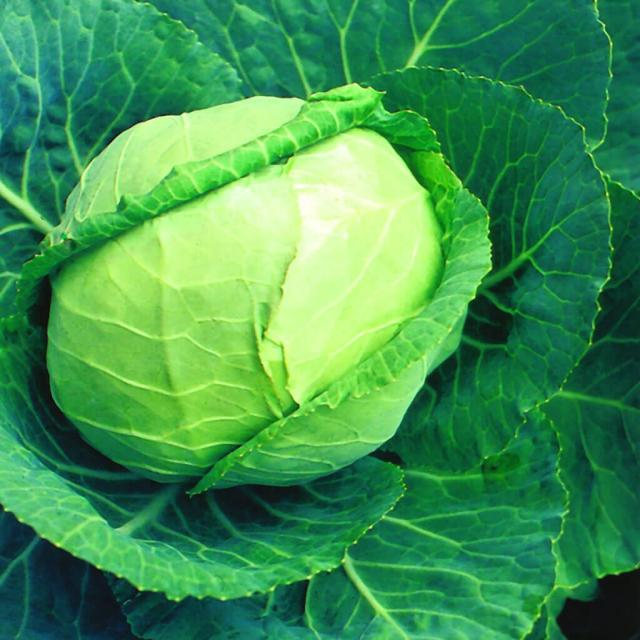cabbage: (8, 58, 570, 548)
